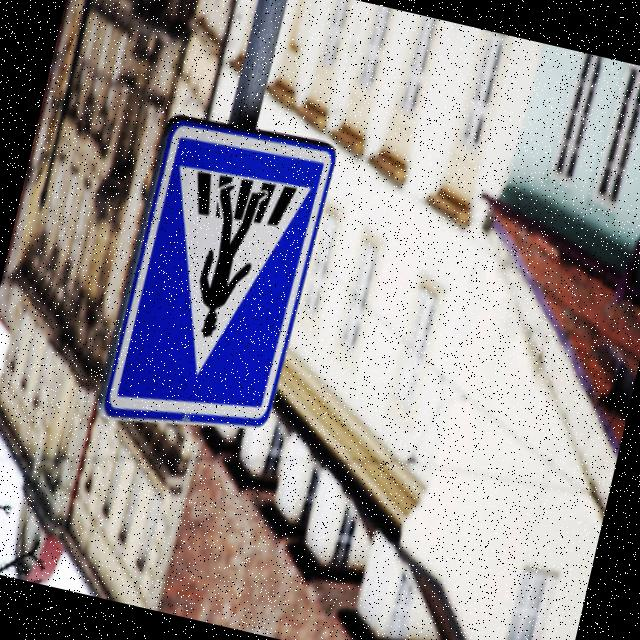crosswalk: (90, 89, 348, 466)
